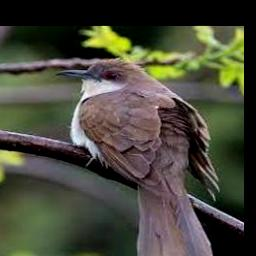Cuckoo: (57, 58, 221, 256)
